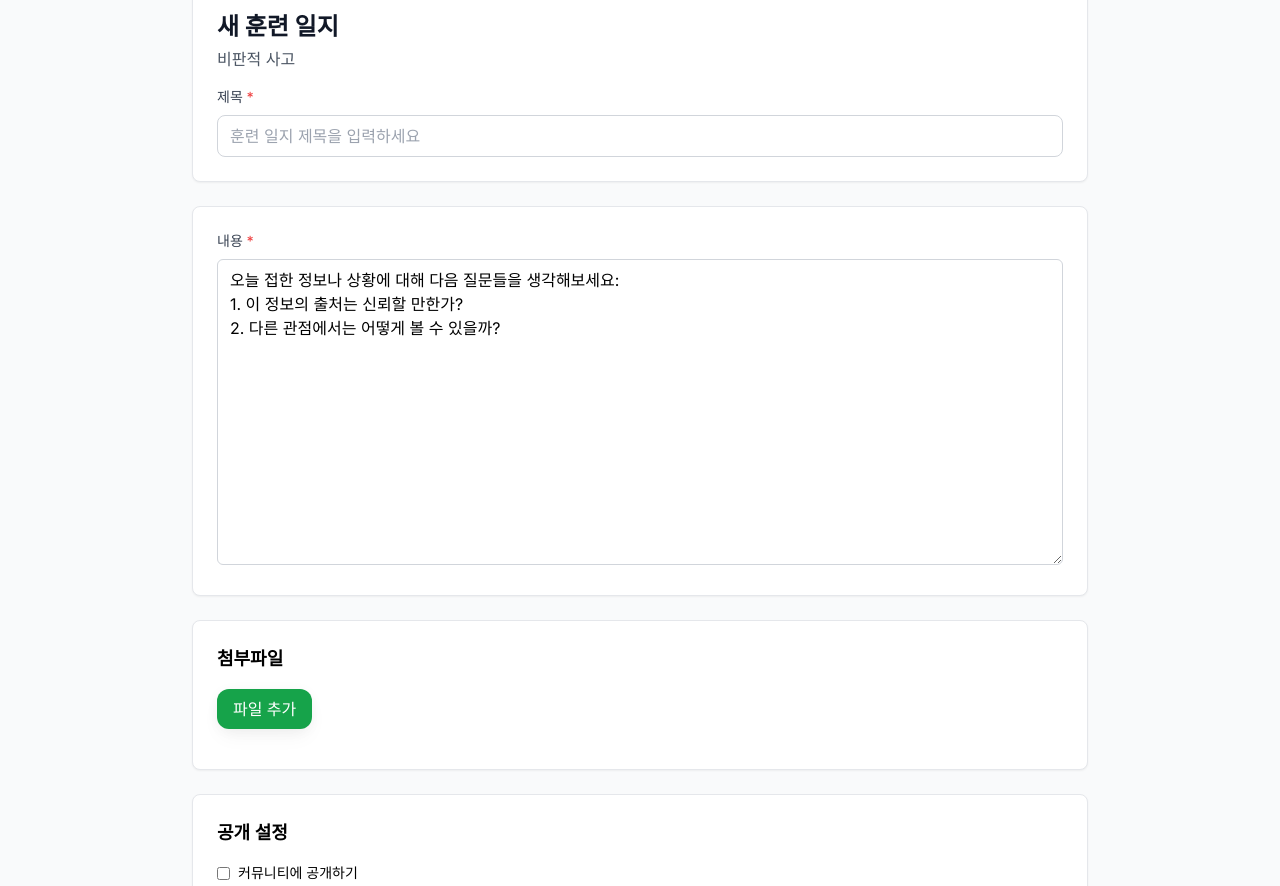
Test: Journal Creation Flow › handles validation errors correctly
# Clear required fields
Clear the field labelled "제목 *" at x=640, y=136, box [217, 115, 1063, 157]
Clear the text box labelled "내용 *" at x=640, y=412, box [217, 259, 1063, 565]
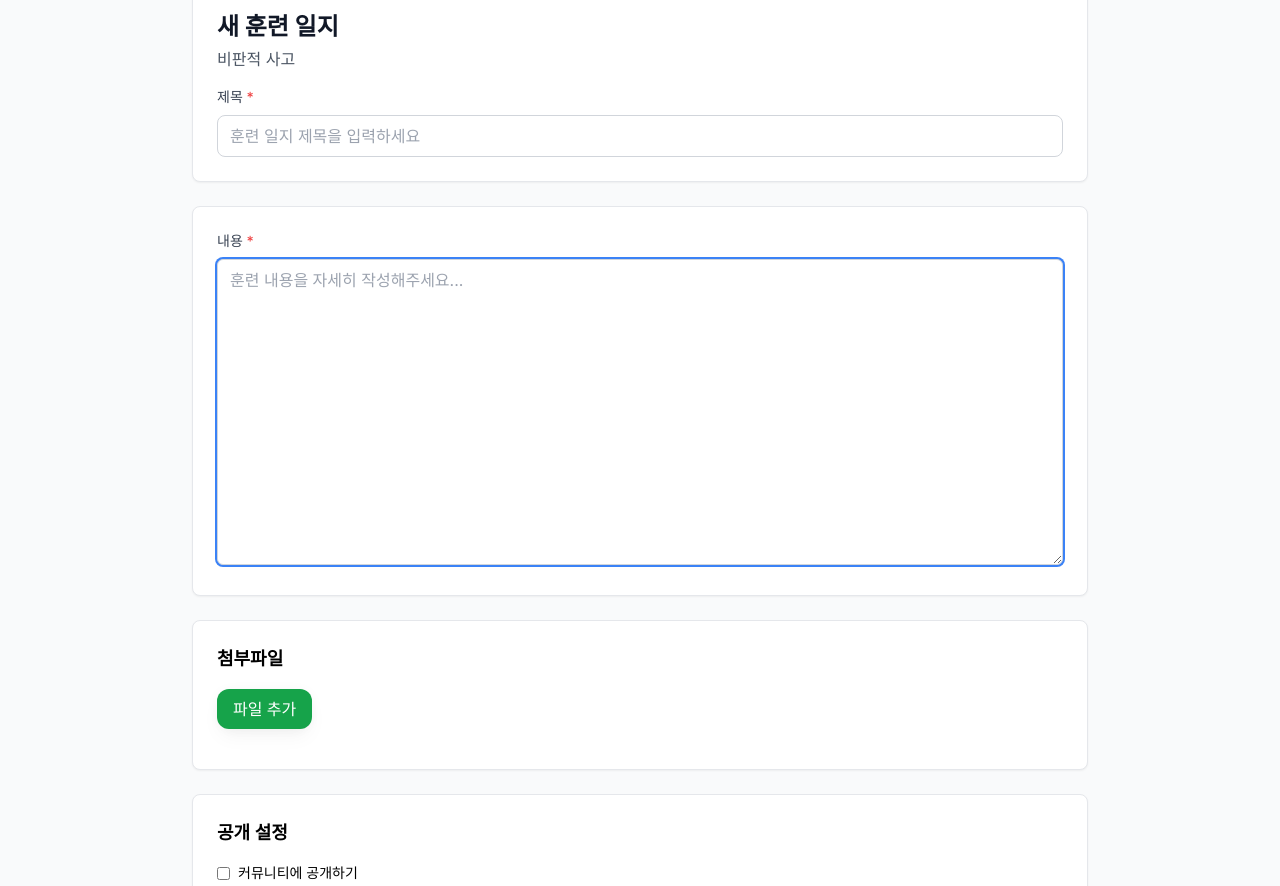
# Add some content to enable button, then try to submit with only title
Type "Test Title" into the field labelled "제목 *" at x=640, y=136, box [217, 115, 1063, 157]
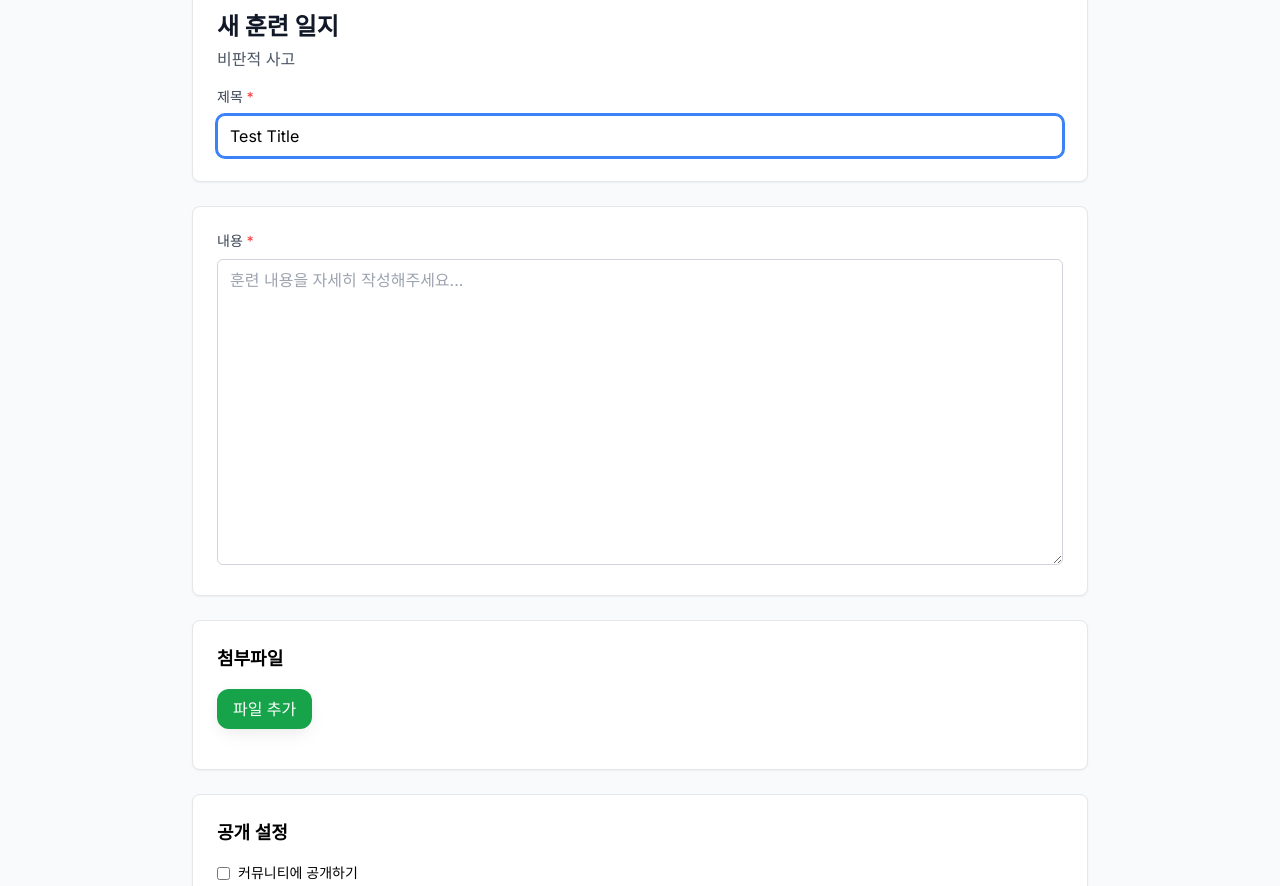
# Add content to enable button
Type "Test Content" into the text box labelled "내용 *" at x=640, y=412, box [217, 259, 1063, 565]
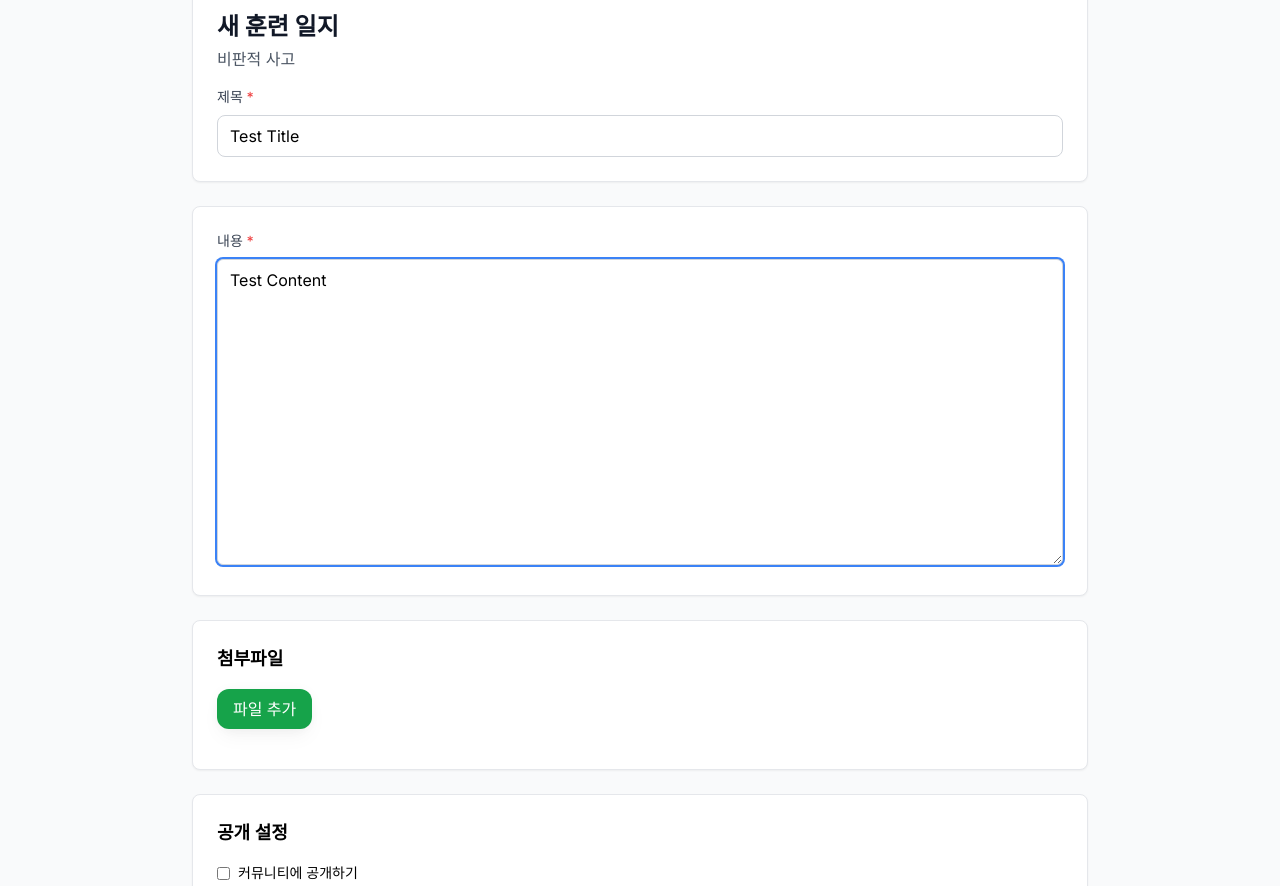
# Clear title to test validation - button should be disabled again
Clear the field labelled "제목 *" at x=640, y=136, box [217, 115, 1063, 157]
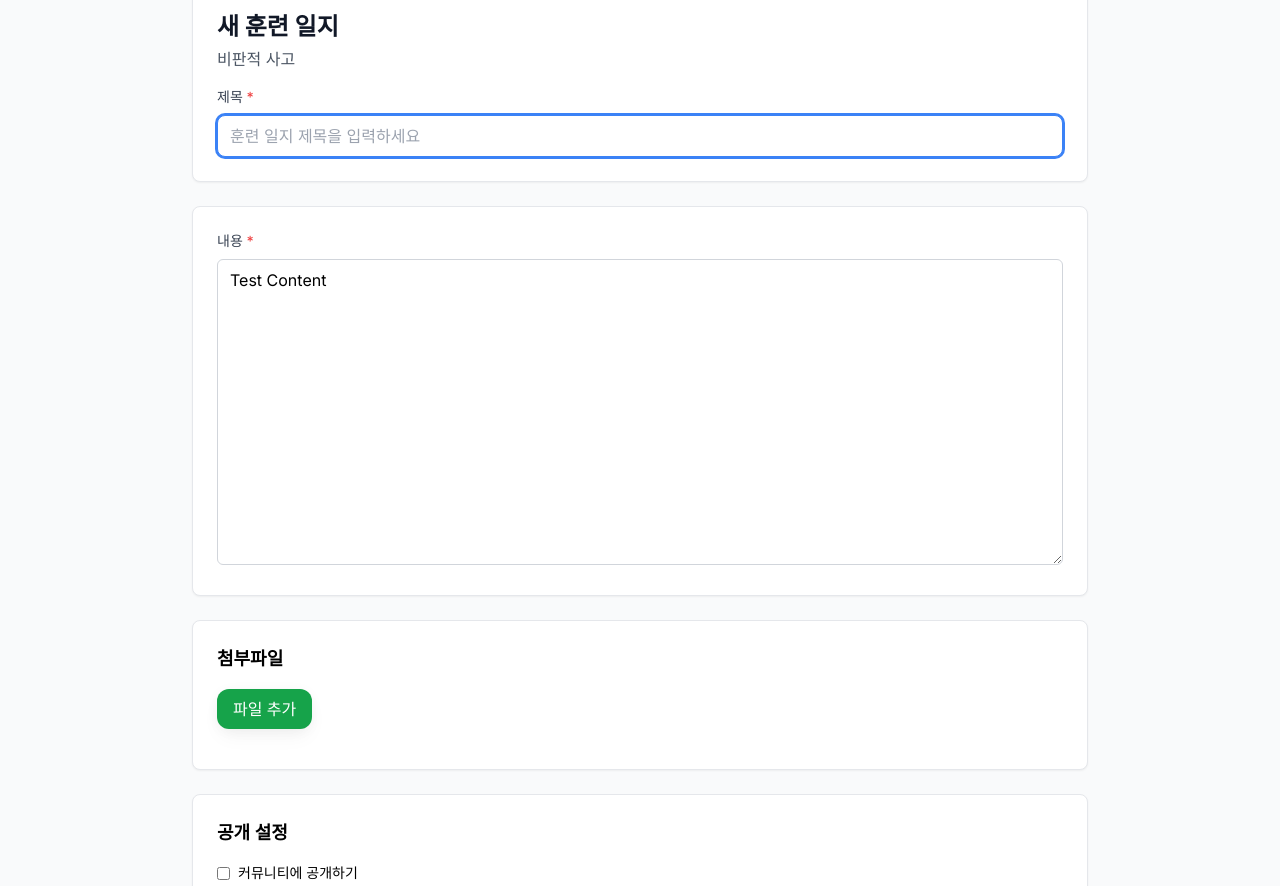
# Add title back and clear content to test content validation
Type "Test Title" into the field labelled "제목 *" at x=640, y=136, box [217, 115, 1063, 157]
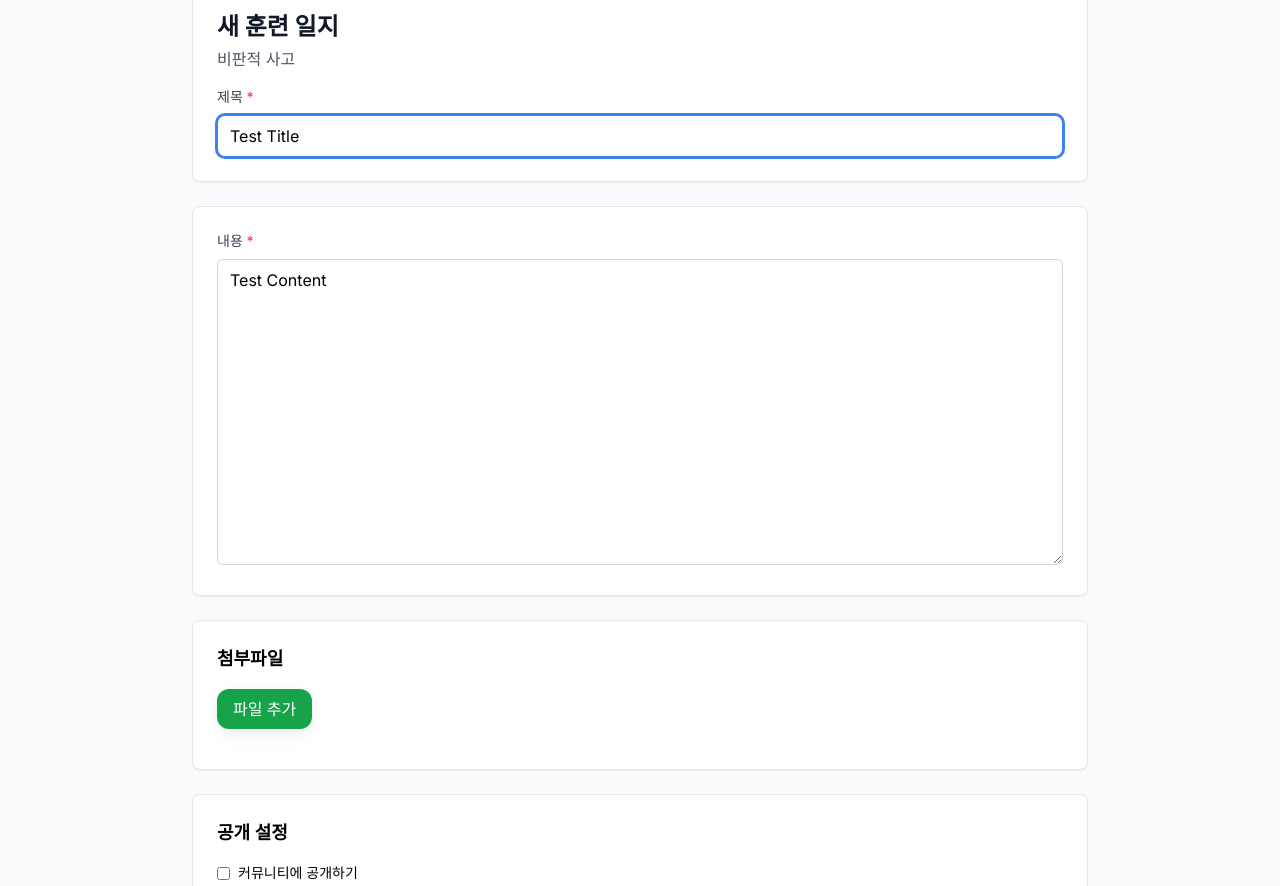
Clear the text box labelled "내용 *" at x=640, y=412, box [217, 259, 1063, 565]
(page scrolled)
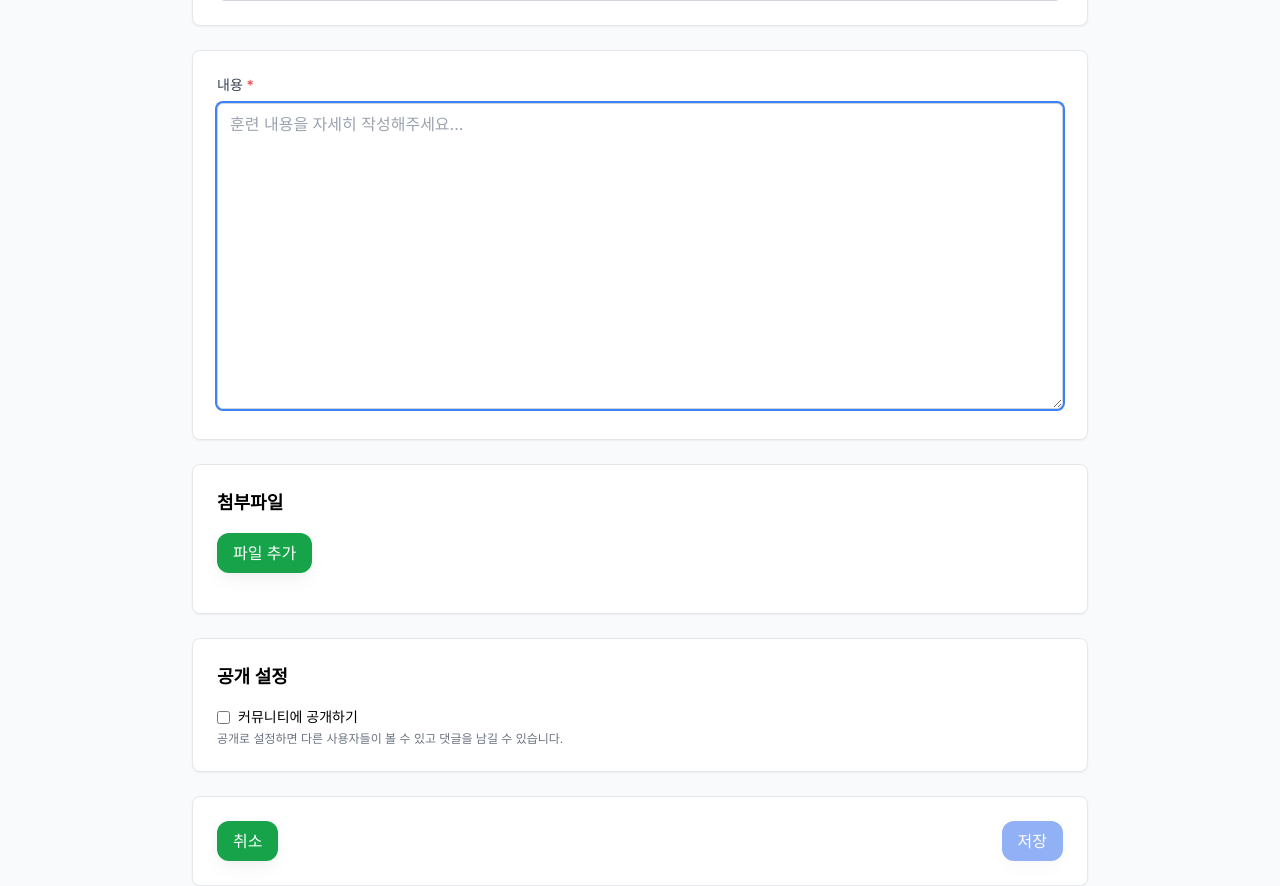
Result: the button "저장" is disabled at [1002, 821, 1063, 861]
